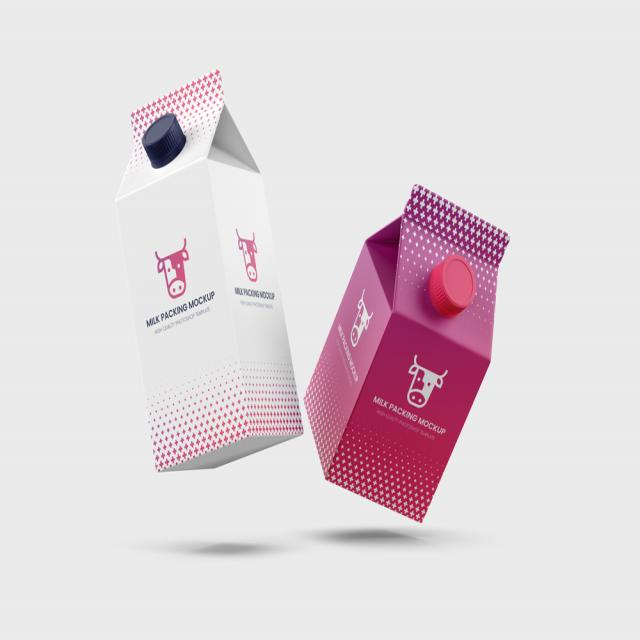non_white_jug: (118, 50, 306, 493), (309, 168, 510, 534)
